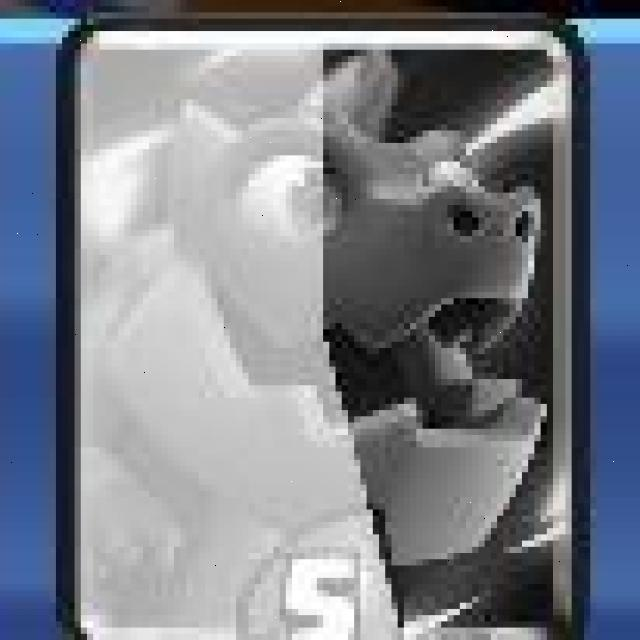Electro_Dragon: (58, 15, 588, 640)
